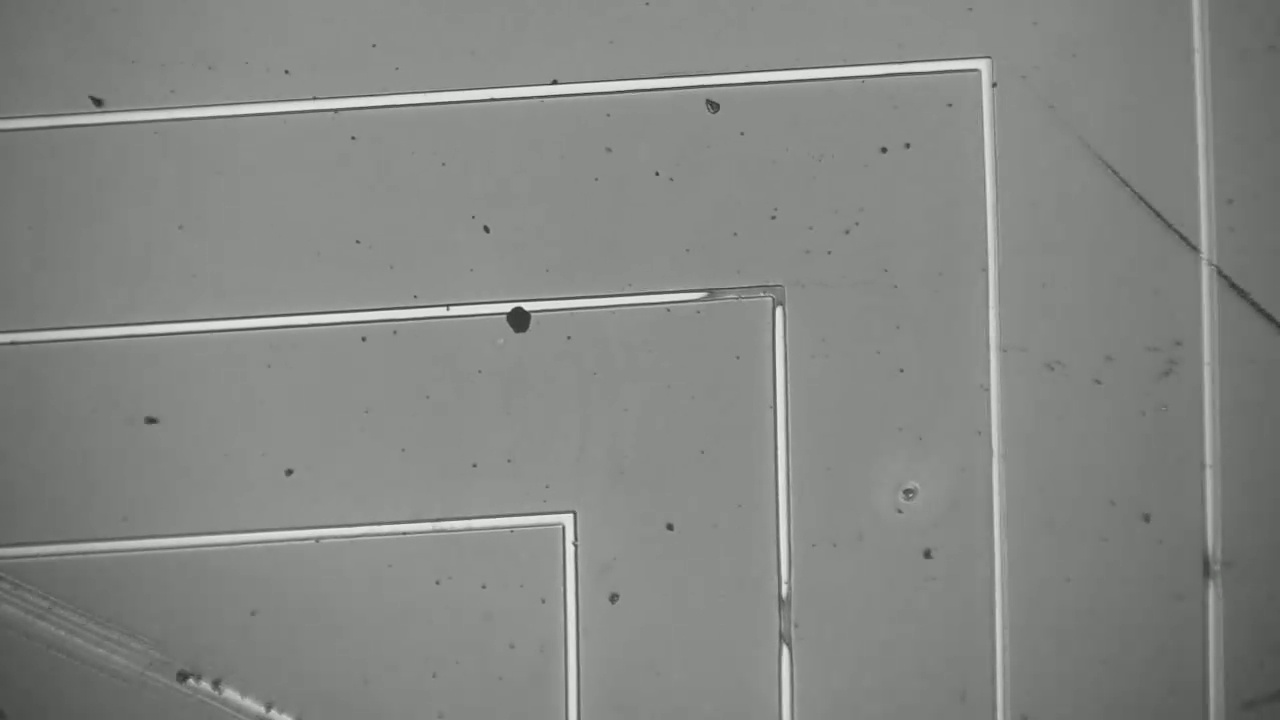edge_bite: (558, 537, 583, 554)
gray_line: (765, 577, 802, 663), (691, 280, 807, 307), (1196, 541, 1234, 598), (763, 276, 790, 317)
scratch: (0, 563, 291, 715), (1059, 121, 1279, 321)
stains_enbedded: (498, 291, 535, 346)
